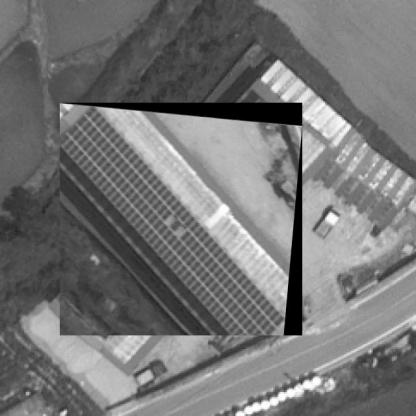solar-pv-panel: (60, 105, 289, 335)
